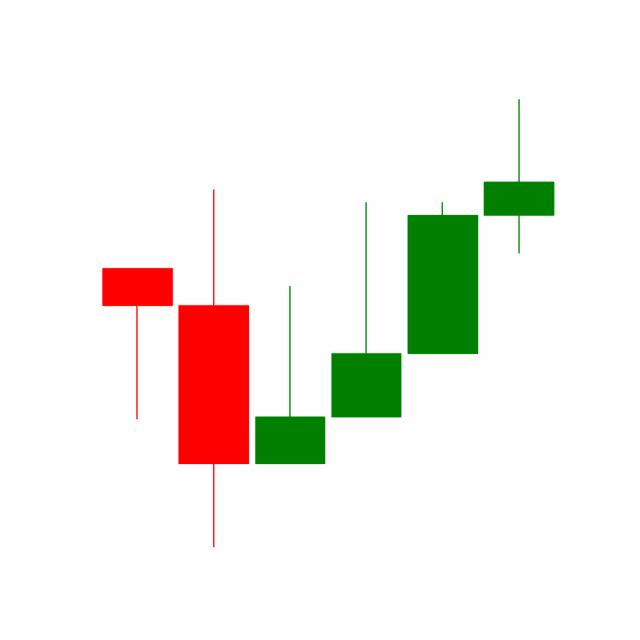Marubozu: (403, 200, 481, 356)
